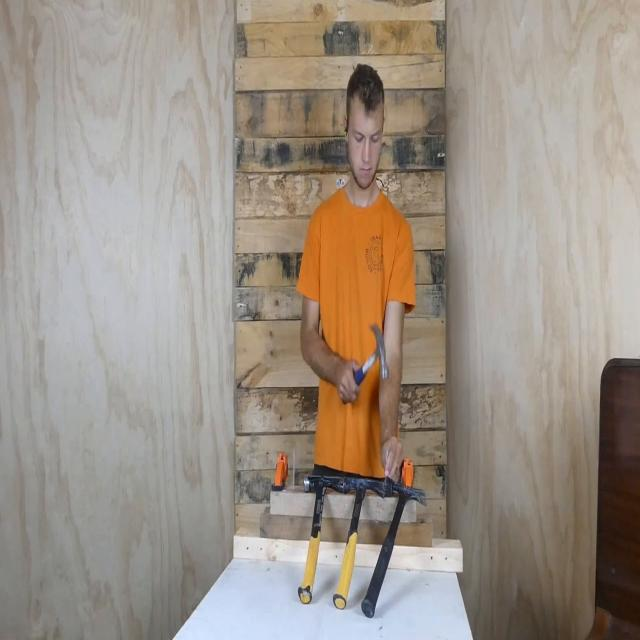hammer: (361, 479, 427, 626), (328, 472, 388, 613), (291, 470, 347, 605), (344, 320, 389, 388)
